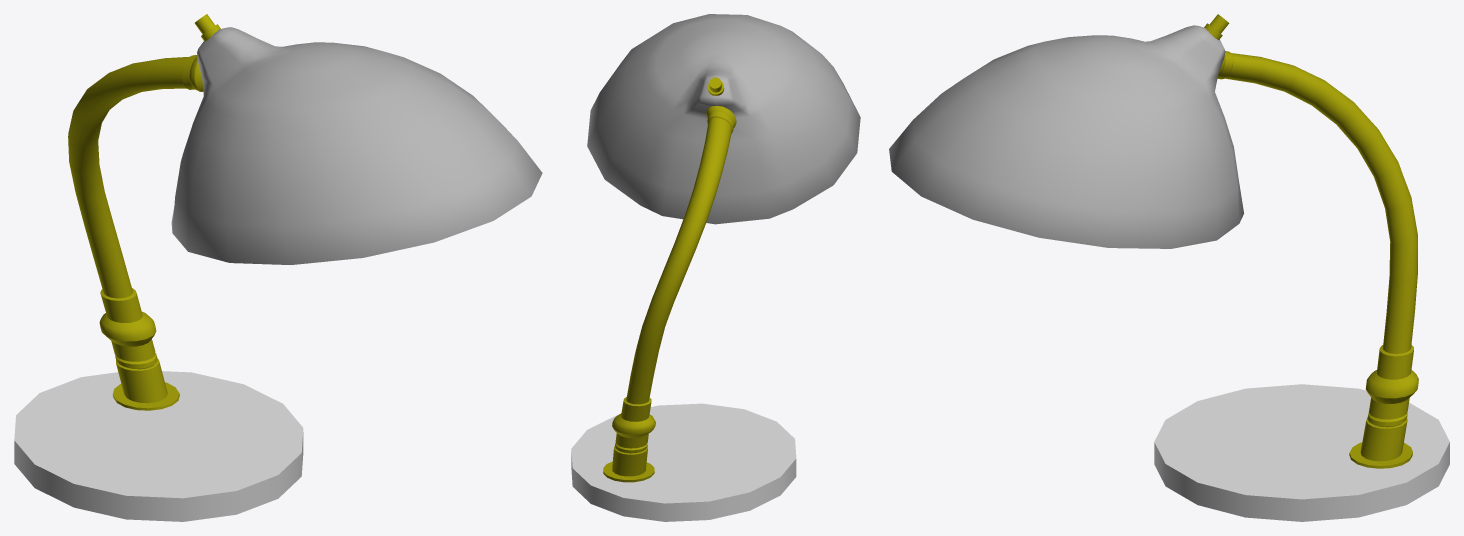
File: desklamp_high.fbx
The picture shows the model from 3 angles, left to right: view 1: azimuth 30°, elevation 25°; view 2: azimuth 150°, elevation 25°; view 3: azimuth 270°, elevation 25°; orthographic projection. The views are drawn at different scales.
Visible parts, largest first — view 1: DeskLamp_opt:deskLamp; view 2: DeskLamp_opt:deskLamp; view 3: DeskLamp_opt:deskLamp.
Boxes of the visible parts, bbox=[...] form: DeskLamp_opt:deskLamp: bbox=[14, 24, 542, 521]; DeskLamp_opt:deskLamp: bbox=[571, 14, 860, 521]; DeskLamp_opt:deskLamp: bbox=[889, 23, 1449, 521].
Size of the model in its own units: 18.65 by 24 by 27.07.
